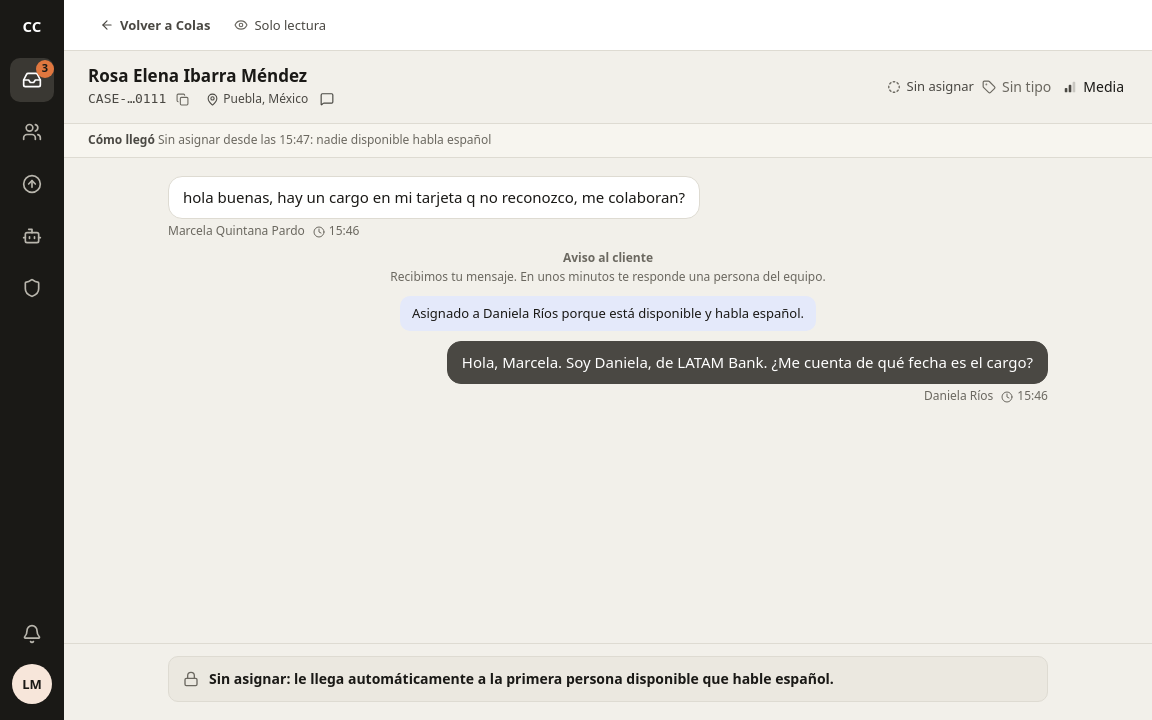
Scenario: supervisor case view › sets the case type from the header, only with the AI switch on (slice 18)
Step 1. Click the button with aria-label "Tipo de caso: Sin tipo. Cambiar el tipo de caso" → [1017, 87], box [976,75,1057,99]
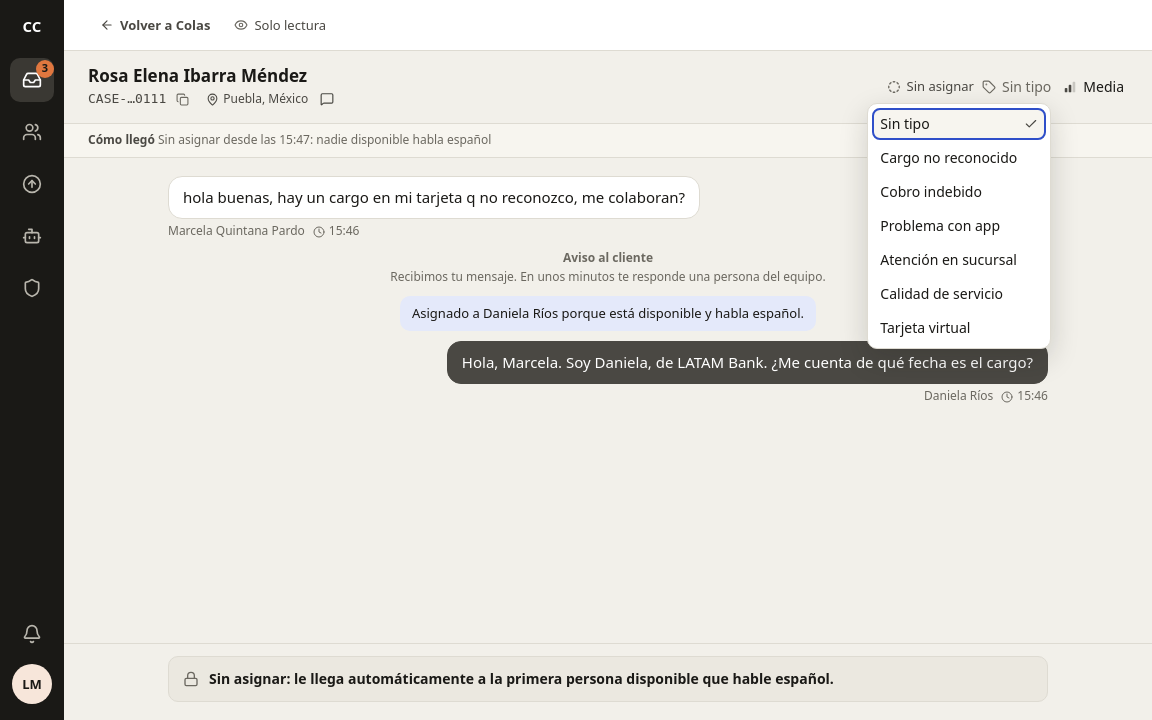
Step 2. Click the menu item "Tarjeta virtual" → [959, 328], box [872,312,1046,344]
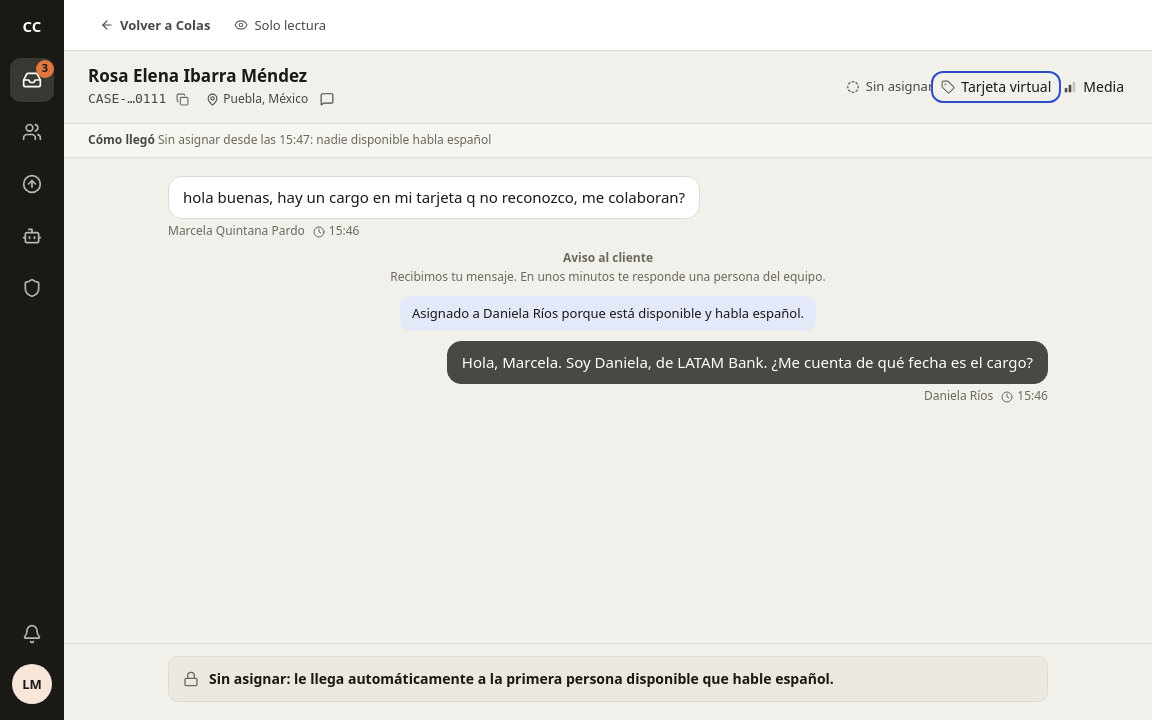
Check: the button with aria-label "Tipo de caso: Tarjeta virtual. Cambiar el tipo de caso" is shown, box [935,75,1057,99]
